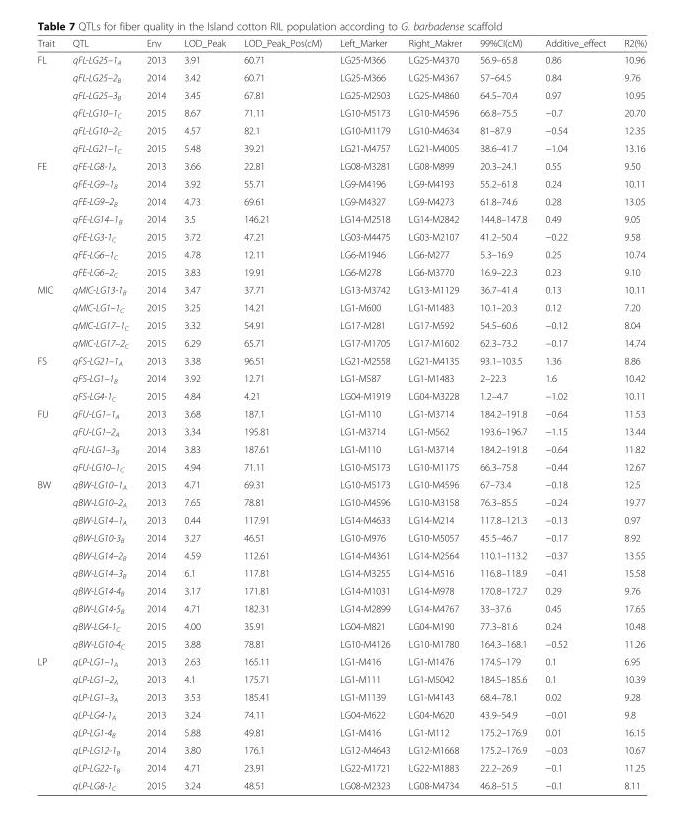table: (36, 37, 646, 791)
table column: (234, 37, 330, 791), (535, 37, 614, 791), (63, 37, 136, 791), (398, 37, 470, 791), (330, 37, 398, 791), (470, 37, 535, 791), (174, 37, 234, 791), (136, 37, 174, 791), (614, 37, 646, 791), (36, 37, 63, 791)
table column header: (36, 37, 646, 51)
table row: (36, 68, 646, 86), (36, 103, 646, 121), (36, 121, 646, 139), (36, 139, 646, 157), (36, 174, 646, 192), (36, 192, 646, 210), (36, 227, 646, 245), (36, 245, 646, 263), (36, 263, 646, 281), (36, 298, 646, 316), (36, 333, 646, 351), (36, 351, 646, 369), (36, 369, 646, 387), (36, 404, 646, 422), (36, 422, 646, 440), (36, 457, 646, 475), (36, 475, 646, 493), (36, 510, 646, 528), (36, 528, 646, 546), (36, 546, 646, 564), (36, 581, 646, 599), (36, 599, 646, 617), (36, 634, 646, 652), (36, 652, 646, 670), (36, 670, 646, 688), (36, 705, 646, 723), (36, 723, 646, 741), (36, 758, 646, 776), (36, 51, 646, 68), (36, 86, 646, 103), (36, 157, 646, 174), (36, 210, 646, 227), (36, 281, 646, 298), (36, 316, 646, 333), (36, 387, 646, 404), (36, 440, 646, 457), (36, 493, 646, 510), (36, 564, 646, 581), (36, 617, 646, 634), (36, 688, 646, 705), (36, 741, 646, 758), (36, 776, 646, 791), (36, 37, 646, 51)
table spanning cell: (36, 475, 63, 652), (36, 652, 63, 791), (36, 157, 63, 281), (36, 51, 63, 157), (36, 404, 63, 475), (36, 281, 63, 351), (36, 351, 63, 404)
